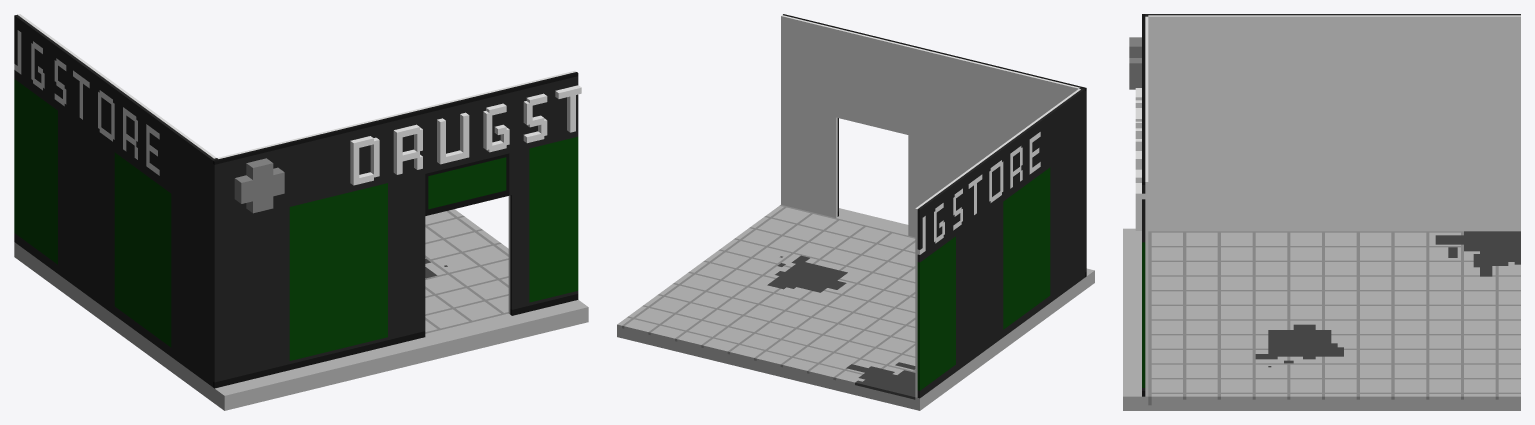
File: 2x2 first (2)-1.obj
The picture shows the model from 3 angles, left to right: view 1: azimuth 30°, elevation 25°; view 2: azimuth 150°, elevation 25°; view 3: azimuth 270°, elevation 25°; orthographic projection. The views are drawn at different scales.
Parts seen in each view (by area): view 1: 2x2 first (2)-1; view 2: 2x2 first (2)-1; view 3: 2x2 first (2)-1.
Boxes of the visible parts, x1,y1,x2,y2 form: 2x2 first (2)-1: [14, 14, 588, 410]; 2x2 first (2)-1: [617, 14, 1094, 410]; 2x2 first (2)-1: [1123, 14, 1520, 410].
Size of the model in its own units: 126 by 80 by 126.
1 material, 1 textured.
